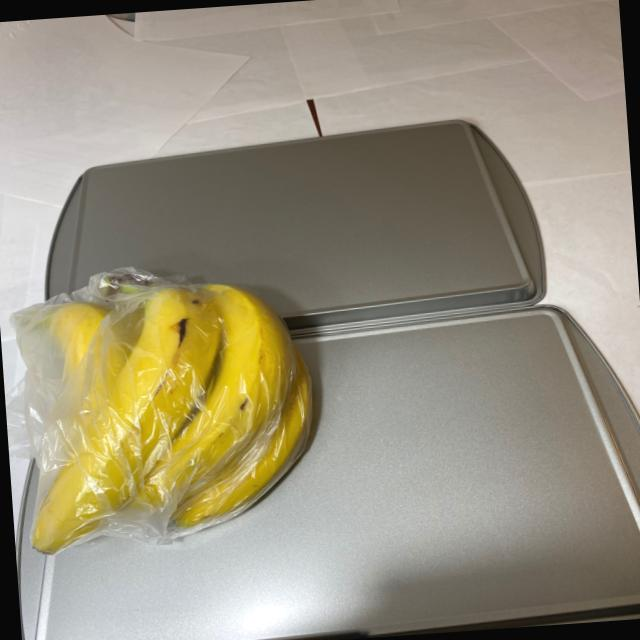banana: (10, 248, 333, 558)
